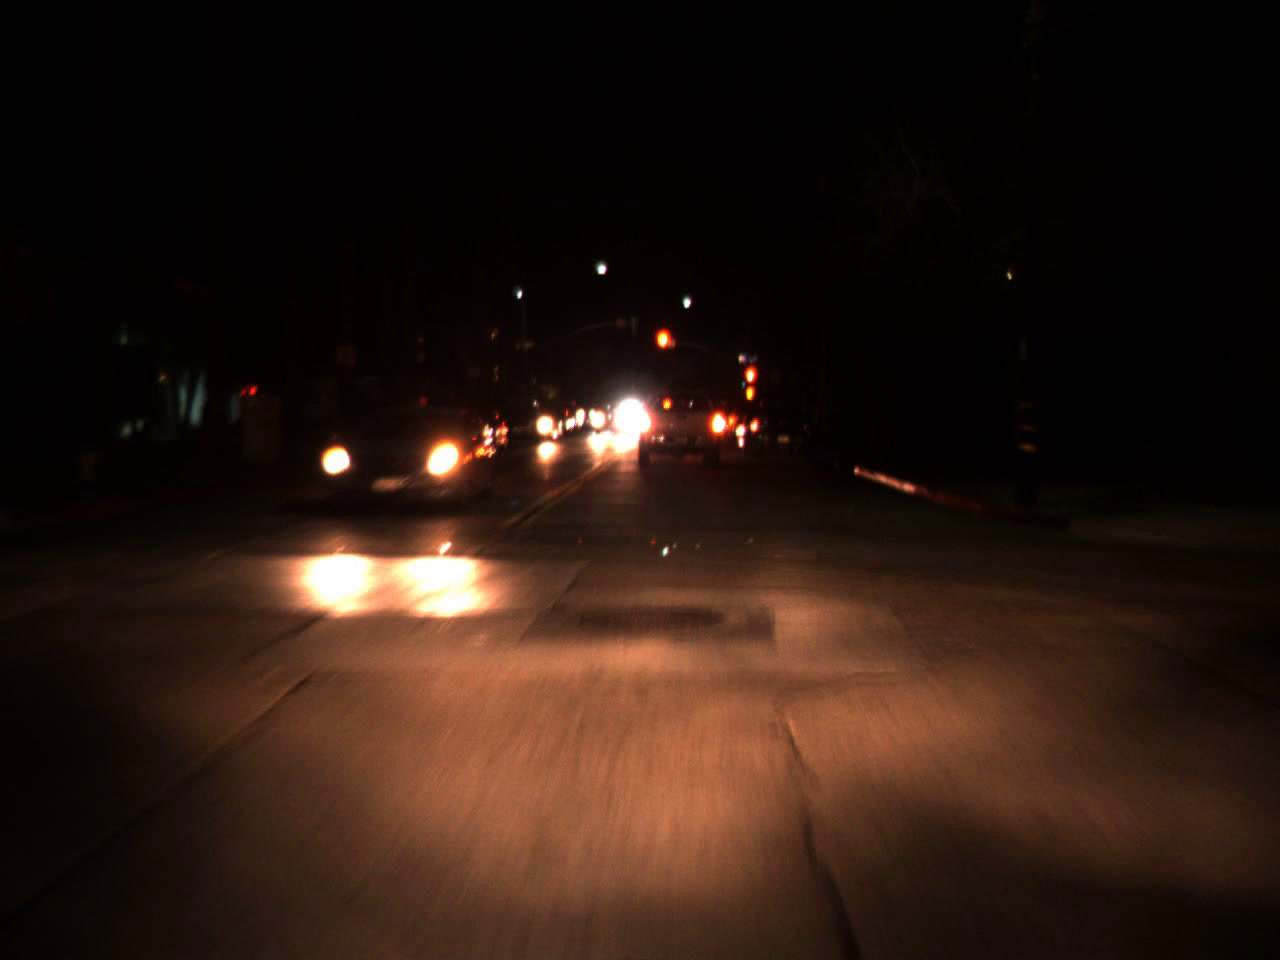stop: (653, 325, 675, 373), (741, 366, 759, 395)
